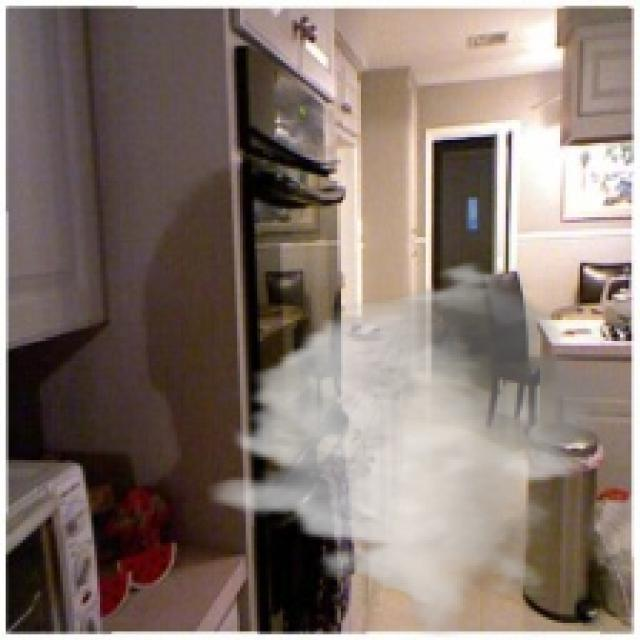Smoke: (203, 260, 623, 637)
